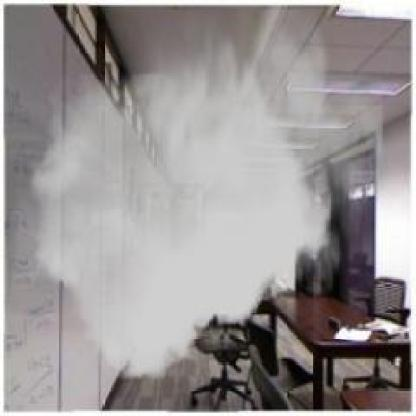Smoke: (30, 10, 383, 378)
